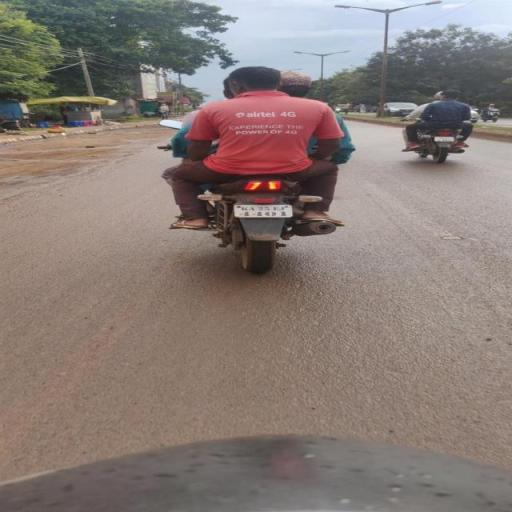tripple riding: (151, 64, 358, 181)
